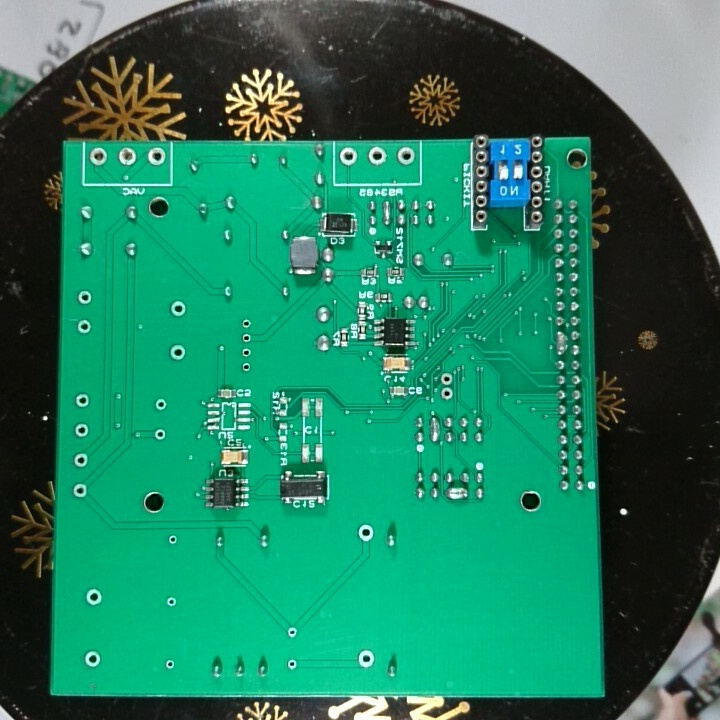F: (366, 144, 388, 169), (82, 586, 105, 609), (115, 145, 137, 169), (168, 297, 189, 322), (355, 647, 377, 669), (147, 145, 168, 167), (88, 146, 109, 168), (395, 146, 416, 167), (82, 648, 103, 669), (356, 523, 378, 543), (168, 343, 188, 364), (339, 146, 358, 167), (75, 316, 94, 337), (70, 480, 89, 500), (72, 420, 90, 440), (71, 452, 91, 470), (284, 624, 301, 645), (77, 288, 94, 308), (74, 391, 91, 410), (160, 655, 179, 672), (438, 386, 457, 402), (153, 396, 168, 416), (437, 371, 456, 386), (165, 532, 180, 550), (239, 315, 254, 331), (239, 359, 254, 375), (239, 343, 252, 361), (164, 595, 179, 610), (153, 427, 167, 443), (239, 331, 253, 345), (285, 657, 298, 672)
P: (552, 328, 571, 357), (380, 196, 394, 229), (428, 413, 442, 444), (445, 485, 469, 501)
